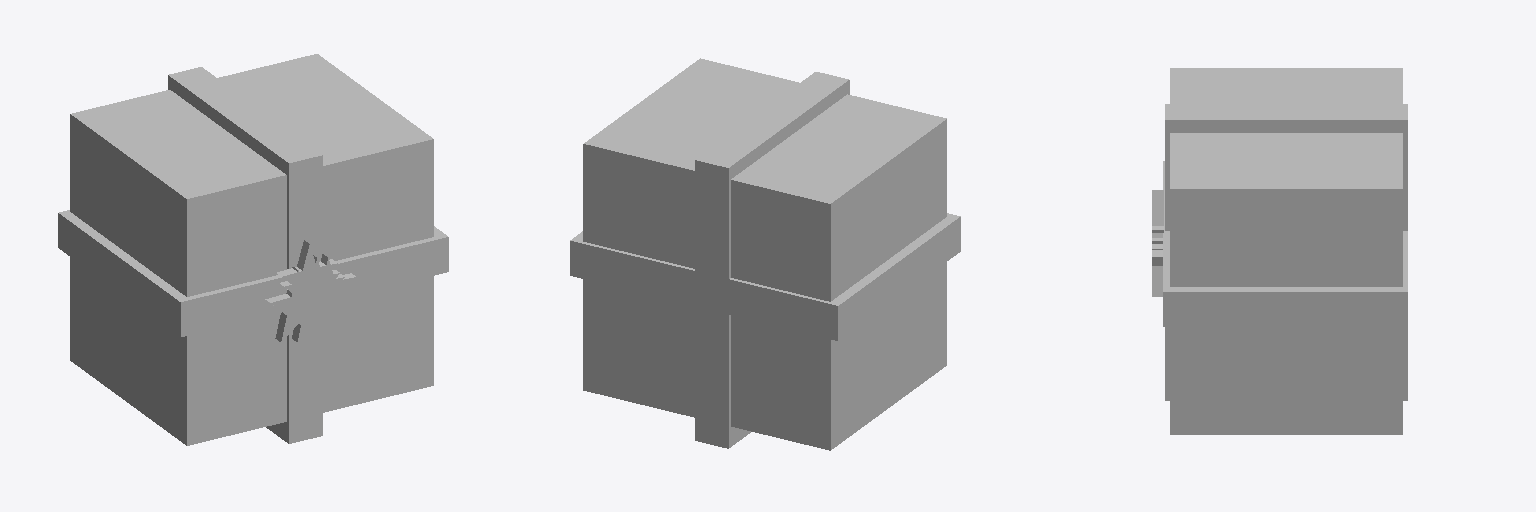
File: present2.obj
The picture shows the model from 3 angles: view 1: azimuth 30°, elevation 25°; view 2: azimuth 150°, elevation 25°; view 3: azimuth 270°, elevation 25°; orthographic projection.
Parts seen in each view (by area): view 1: obj_0; view 2: obj_0; view 3: obj_0.
Part boxes in pixels (left/top/right/bottom): obj_0: left=58, top=54, right=448, bottom=445; obj_0: left=570, top=58, right=960, bottom=450; obj_0: left=1152, top=68, right=1407, bottom=434.
Bounding box in the file's own units: 215 × 215 × 177.